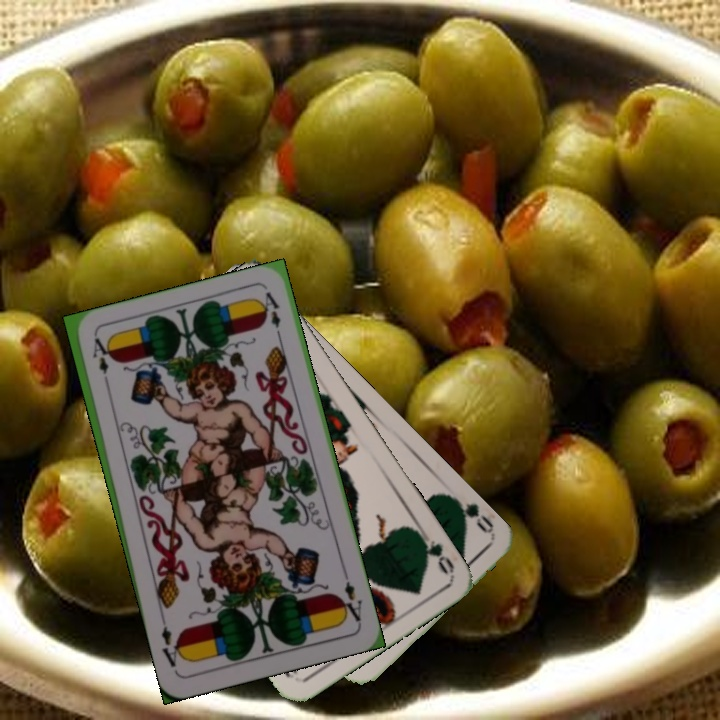EA: (336, 568, 365, 624), (88, 333, 113, 392)
GO: (413, 524, 458, 578), (445, 492, 496, 536)
